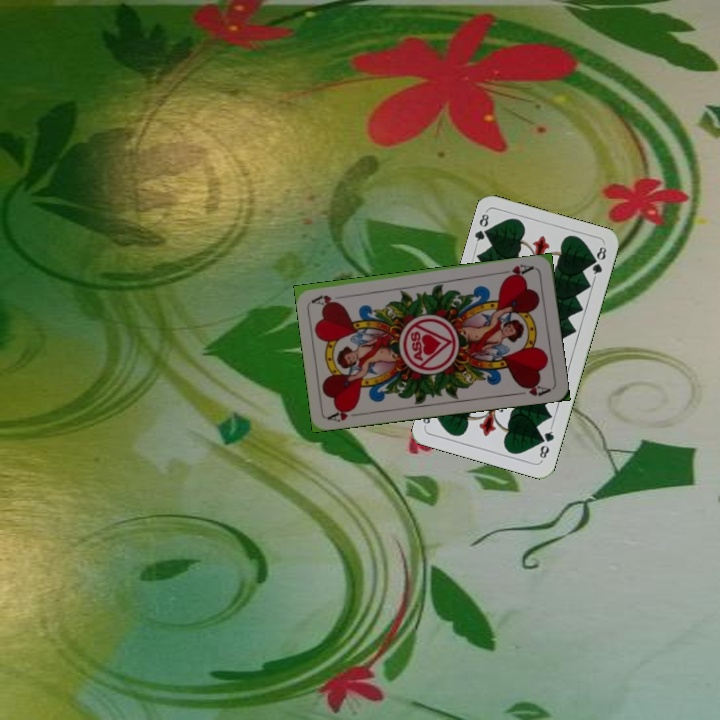G8: (471, 208, 494, 248), (535, 423, 557, 463)
HA: (325, 403, 366, 425), (501, 260, 536, 282)
